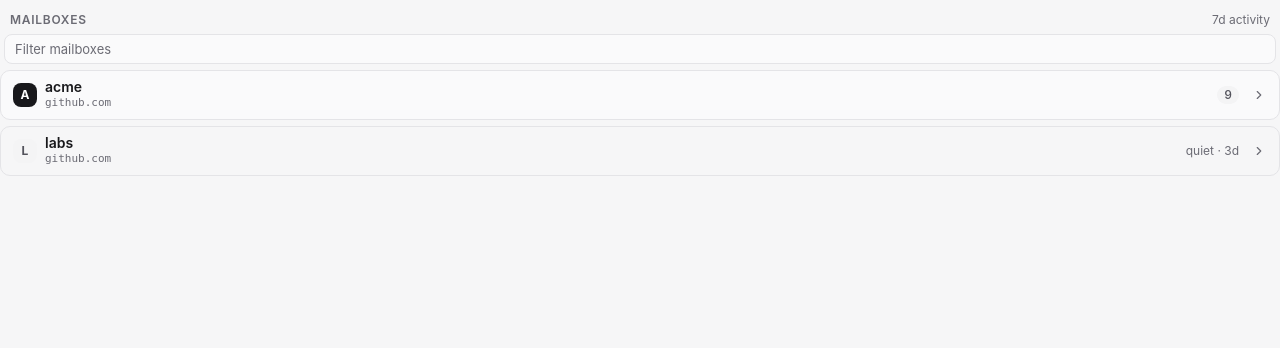
MailboxTree › renders and toggles when storage is unavailable
This screenshot has width=1280, height=348.
Click the button named "Expand acme".
click(1259, 95)  # box [1245,81,1273,109]
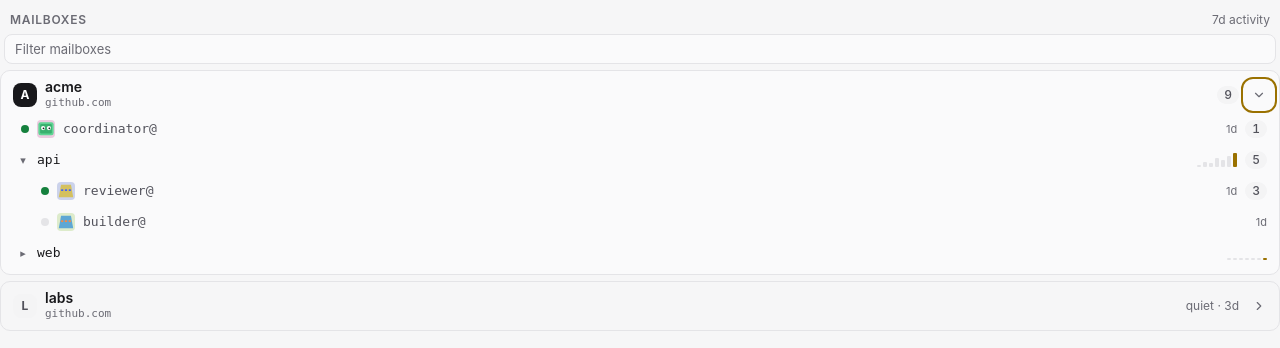
Expected: the text "coordinator@" is shown, [63,121,157,136]
